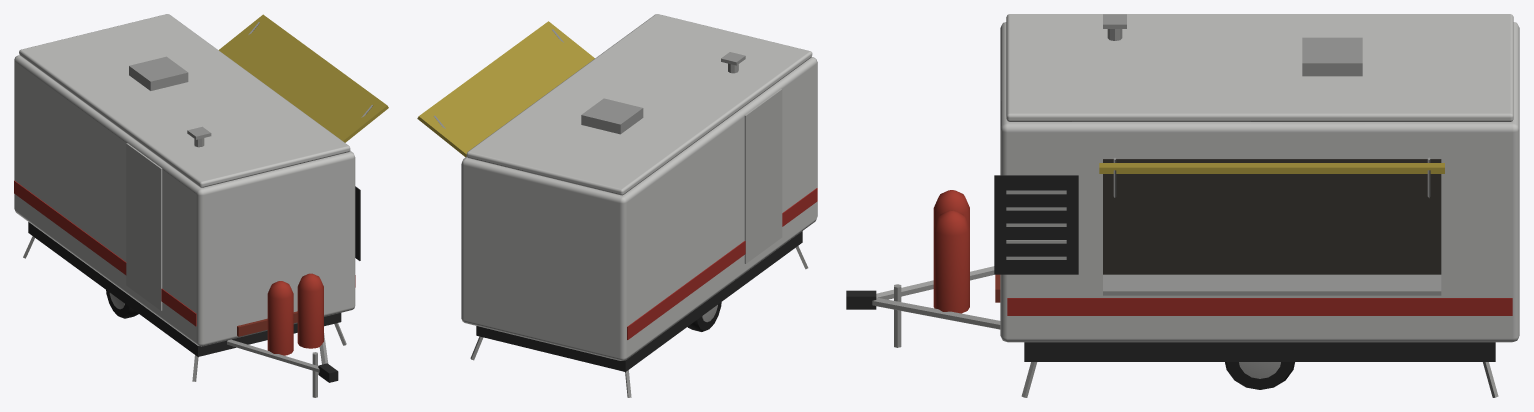
The model's file is SM_Prop_road_burgervan_0.glb.
The picture shows the model from 3 angles, left to right: view 1: azimuth 30°, elevation 25°; view 2: azimuth 150°, elevation 25°; view 3: azimuth 270°, elevation 25°; orthographic projection. The views are drawn at different scales.
Parts seen in each view (by area): view 1: SM_Prop_road_burgervan_0; view 2: SM_Prop_road_burgervan_0; view 3: SM_Prop_road_burgervan_0.
Part boxes in pixels (x1,y1,x2,y2): SM_Prop_road_burgervan_0: (14,14,388,397); SM_Prop_road_burgervan_0: (417,14,817,397); SM_Prop_road_burgervan_0: (846,14,1519,397).
Size of the model in its own units: 3.01 by 2.76 by 5.58.
